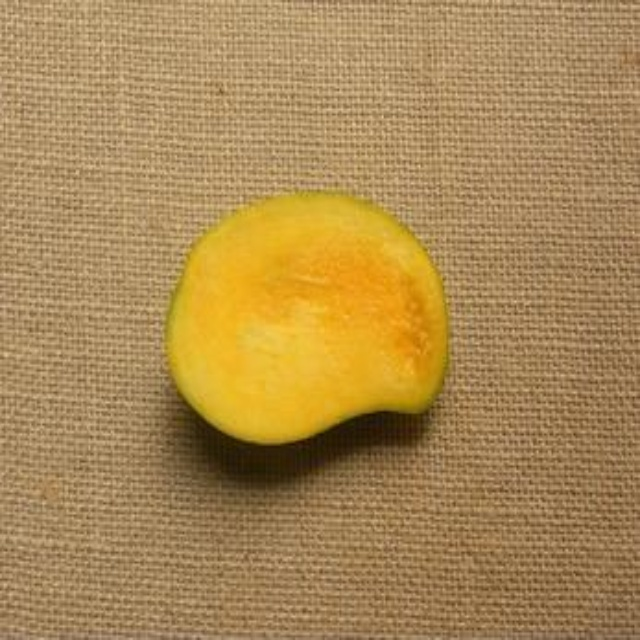mango: (169, 197, 447, 446)
